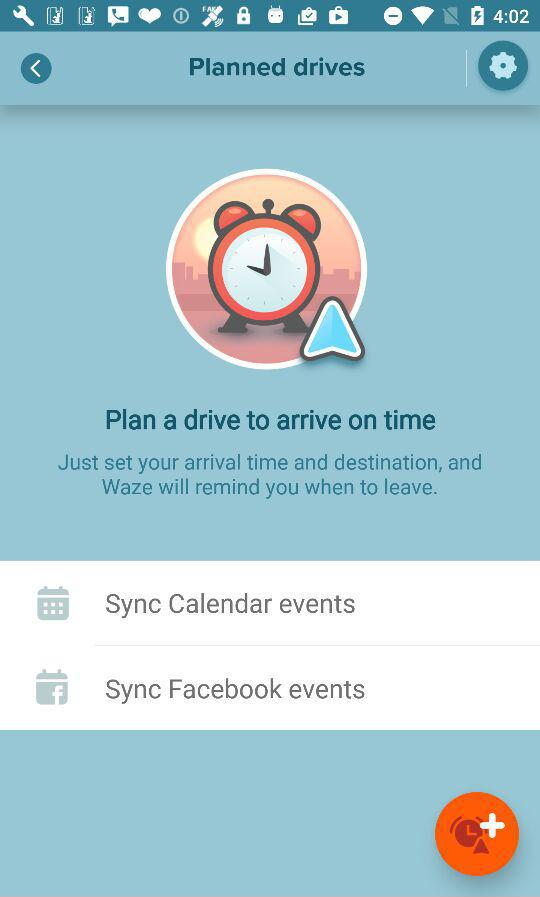Icon: (478, 41, 529, 92), (36, 668, 70, 706), (37, 585, 71, 621), (21, 53, 53, 86)
Image: (166, 169, 369, 372), (435, 791, 520, 876)
Text: (57, 453, 482, 500), (106, 409, 436, 432), (106, 677, 366, 705), (106, 592, 356, 619), (190, 57, 366, 78)
Toolbar: (1, 33, 538, 107)
UpperTaskBar: (1, 1, 540, 33)
